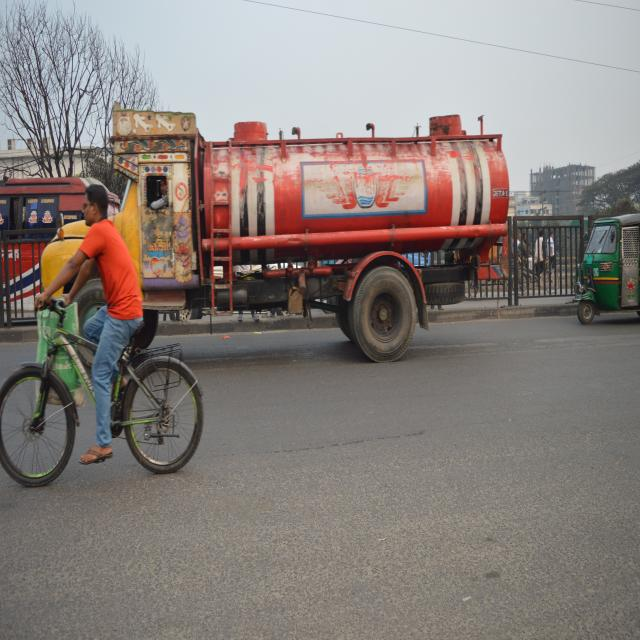bus: (0, 165, 117, 312)
truck: (98, 121, 510, 347)
